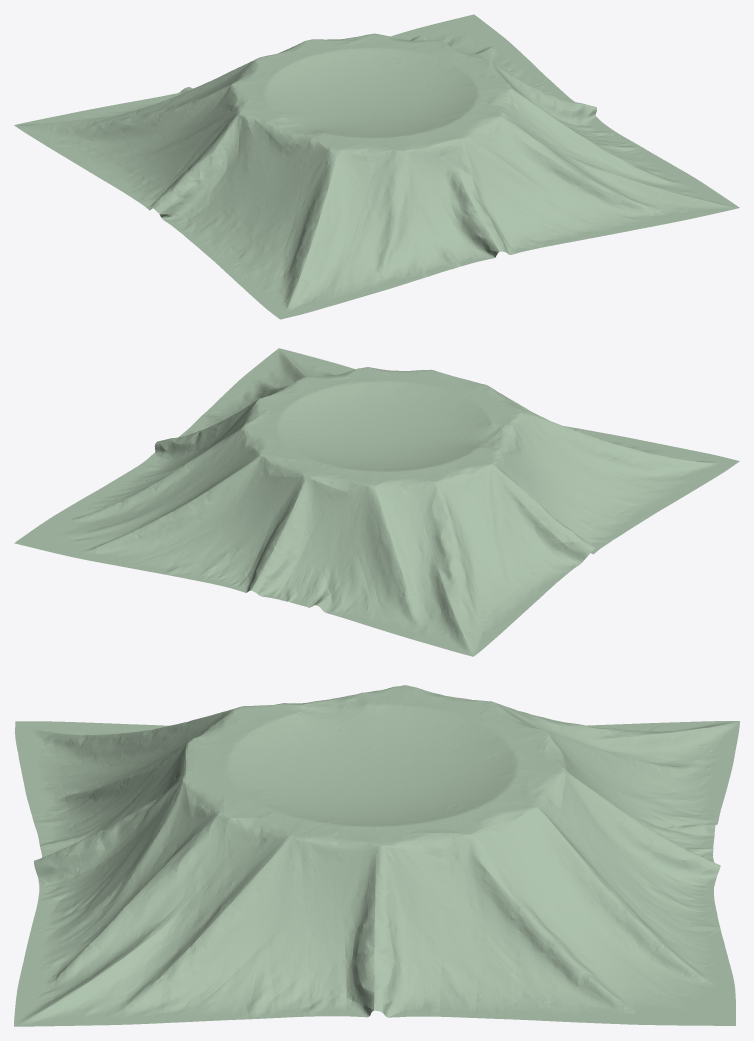
Rendered from level_4.glb.
3 renders of one model, top to bottom at view 1: azimuth 30°, elevation 25°; view 2: azimuth 150°, elevation 25°; view 3: azimuth 270°, elevation 25°, orthographic. The views are drawn at different scales.
Parts seen in each view (by area): view 1: world; view 2: world; view 3: world.
Part boxes in pixels (x1=…): world: x1=14, y1=14, x2=739, y2=319; world: x1=14, y1=348, x2=739, y2=656; world: x1=14, y1=685, x2=739, y2=1026.
Bounding box in the file's own units: 0.6074 × 0.0975 × 0.6095.
